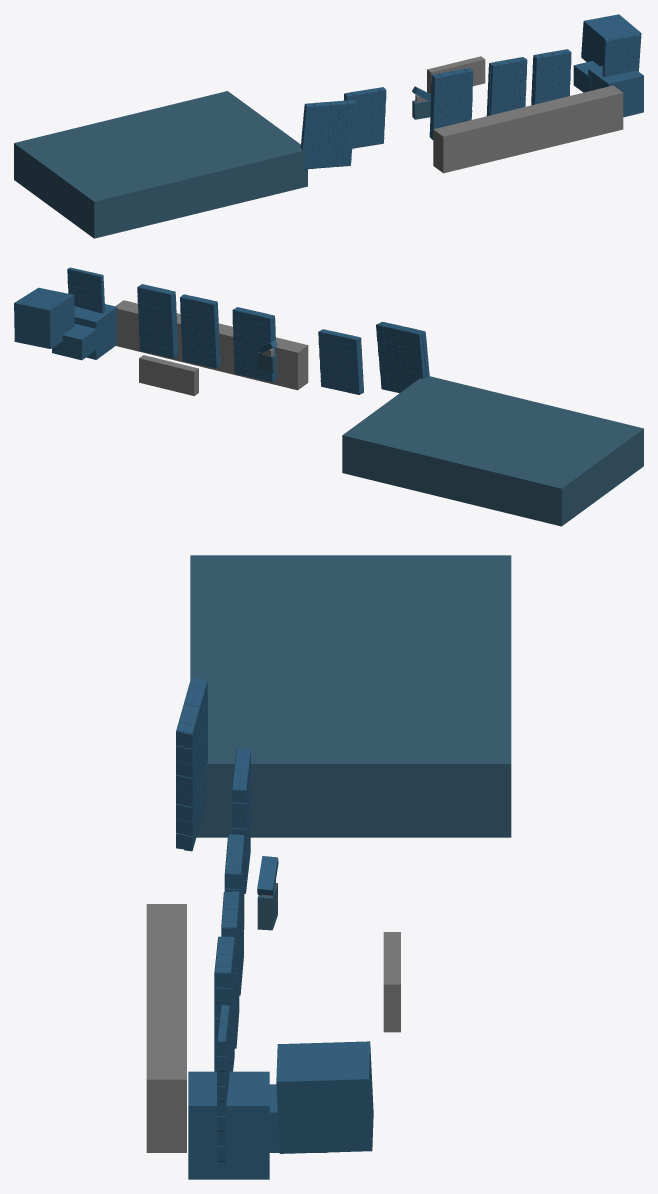
Rendered from Walls.fbx.
3 views of the same model, one above another, from view 1: azimuth 30°, elevation 25°; view 2: azimuth 150°, elevation 25°; view 3: azimuth 270°, elevation 25° (orthographic). The views are drawn at different scales.
Parts seen in each view (by area): view 1: ThickSideWallLeft (7), Wall (1), polySurface581 6, polySurface581 3, polySurface581 9, polySurface581 4, polySurface581 8, ThickSideWallLeft (5), ThickSideWallLeft (4), polySurface581 10, RightSideWall1 (1), ThickSideWallLeft (8) (+1 smaller); view 2: ThickSideWallLeft (7), Wall (1), ThickSideWallLeft (5), polySurface581 5, polySurface581 7, polySurface581, polySurface581 2, polySurface581 1_1, RightSideWall1 (1), polySurface581 10, ThickSideWallLeft (4), ThickSideWallLeft (8); view 3: ThickSideWallLeft (7), ThickSideWallLeft (5), Wall (1), ThickSideWallLeft (4), polySurface581 5, RightSideWall1 (1), polySurface581 10, polySurface581 6, polySurface581 2, polySurface581 7, polySurface581 1_1, polySurface581 (+1 smaller).
Part boxes in pixels (x1,y1,x2,y2): ThickSideWallLeft (7): (14, 91, 307, 238); Wall (1): (433, 85, 623, 173); polySurface581 6: (301, 101, 356, 169); polySurface581 3: (431, 69, 473, 139); polySurface581 9: (489, 58, 527, 115); polySurface581 4: (345, 88, 386, 148); polySurface581 8: (533, 50, 571, 104); ThickSideWallLeft (5): (581, 14, 641, 67); ThickSideWallLeft (4): (588, 66, 643, 117); polySurface581 10: (602, 33, 640, 77); RightSideWall1 (1): (427, 56, 485, 94); ThickSideWallLeft (8): (573, 61, 599, 92); ThickSideWallLeft (7): (342, 376, 643, 526); Wall (1): (115, 300, 308, 390); ThickSideWallLeft (5): (14, 287, 74, 348); polySurface581 5: (376, 323, 426, 393); polySurface581 7: (137, 285, 176, 358); polySurface581: (180, 296, 219, 368); polySurface581 2: (318, 330, 361, 394); polySurface581 1_1: (232, 308, 274, 382); RightSideWall1 (1): (139, 355, 198, 396); polySurface581 10: (67, 267, 105, 313); ThickSideWallLeft (4): (74, 304, 117, 359); ThickSideWallLeft (8): (52, 324, 98, 360); ThickSideWallLeft (7): (190, 555, 511, 837); ThickSideWallLeft (5): (276, 1041, 373, 1153); Wall (1): (146, 904, 186, 1152); ThickSideWallLeft (4): (188, 1071, 269, 1179); polySurface581 5: (183, 679, 207, 851); RightSideWall1 (1): (383, 932, 400, 1032); polySurface581 10: (217, 1005, 229, 1162); polySurface581 6: (176, 677, 199, 849); polySurface581 2: (239, 748, 250, 893); polySurface581 7: (222, 936, 234, 1071); polySurface581 1_1: (232, 834, 244, 995); polySurface581: (229, 891, 239, 1048).
Bounding box in the file's own units: 293 × 43.8 × 81.3.
